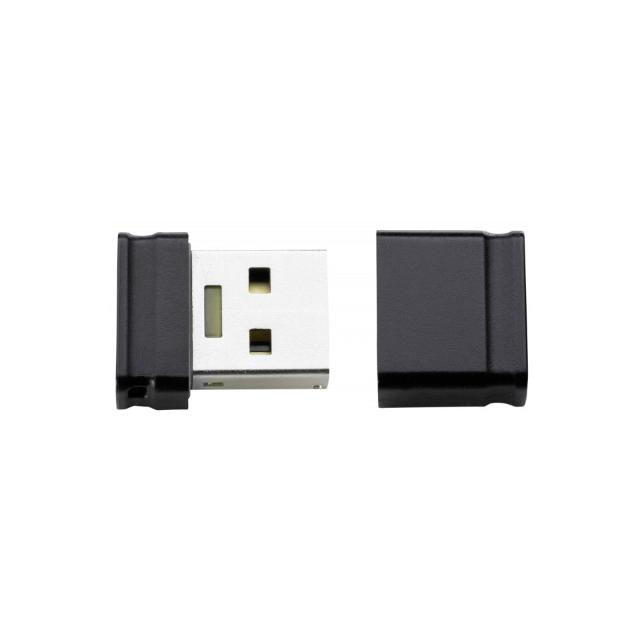USB-Flash-Drive: (117, 232, 335, 410)
